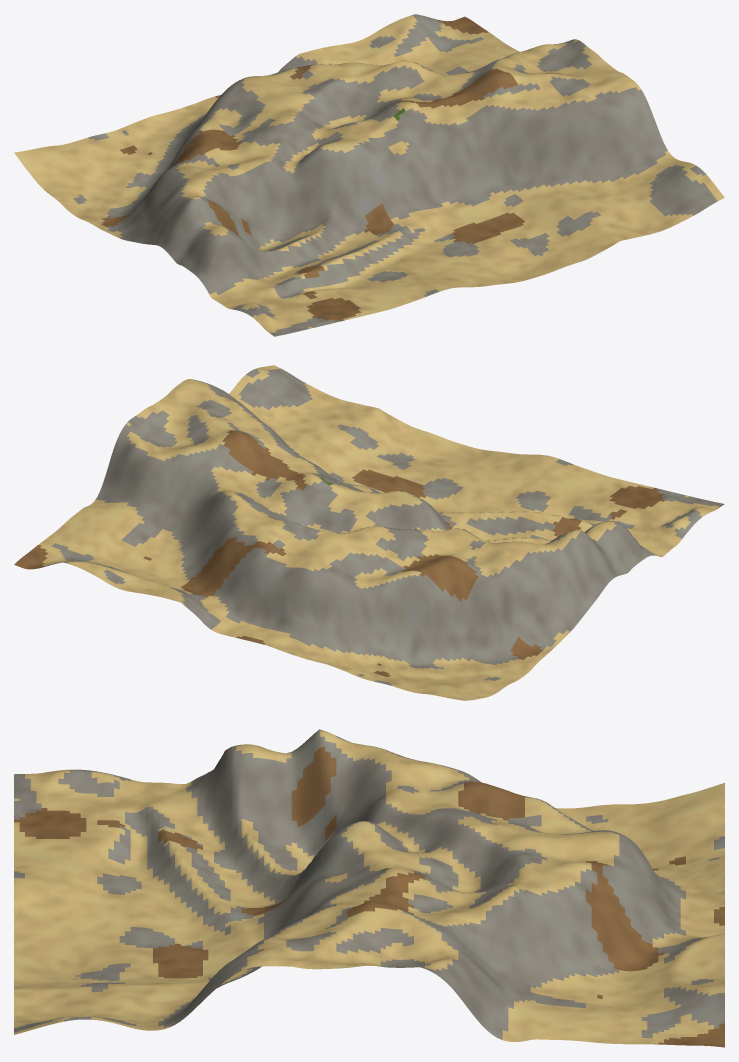
File: chunk_7_5.glb
3 renders of one model, top to bottom at view 1: azimuth 30°, elevation 25°; view 2: azimuth 150°, elevation 25°; view 3: azimuth 270°, elevation 25°, orthographic. The views are drawn at different scales.
Parts seen in each view (by area): view 1: Surface_Gravel, Surface_Sand, Surface_Dirt; view 2: Surface_Gravel, Surface_Sand, Surface_Dirt; view 3: Surface_Sand, Surface_Gravel, Surface_Dirt.
Part boxes in pixels (x1,y1,x2,y2): Surface_Gravel: [73, 14, 717, 336]; Surface_Sand: [14, 15, 724, 333]; Surface_Dirt: [100, 16, 525, 321]; Surface_Gravel: [41, 368, 724, 685]; Surface_Sand: [38, 365, 720, 700]; Surface_Dirt: [14, 430, 665, 676]; Surface_Sand: [14, 730, 724, 1044]; Surface_Gravel: [14, 729, 724, 1039]; Surface_Dirt: [14, 746, 724, 1047].
Size of the model in its own units: 256 by 57.77 by 256.
